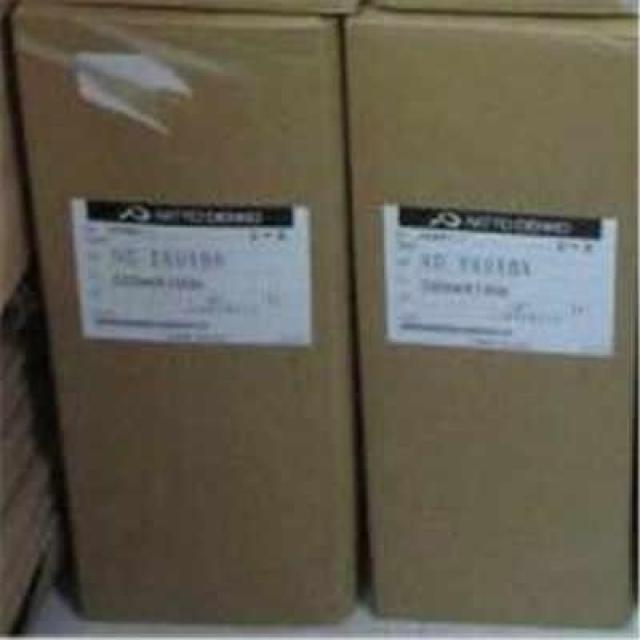box: (16, 8, 366, 621), (342, 5, 636, 630), (3, 9, 71, 638)
